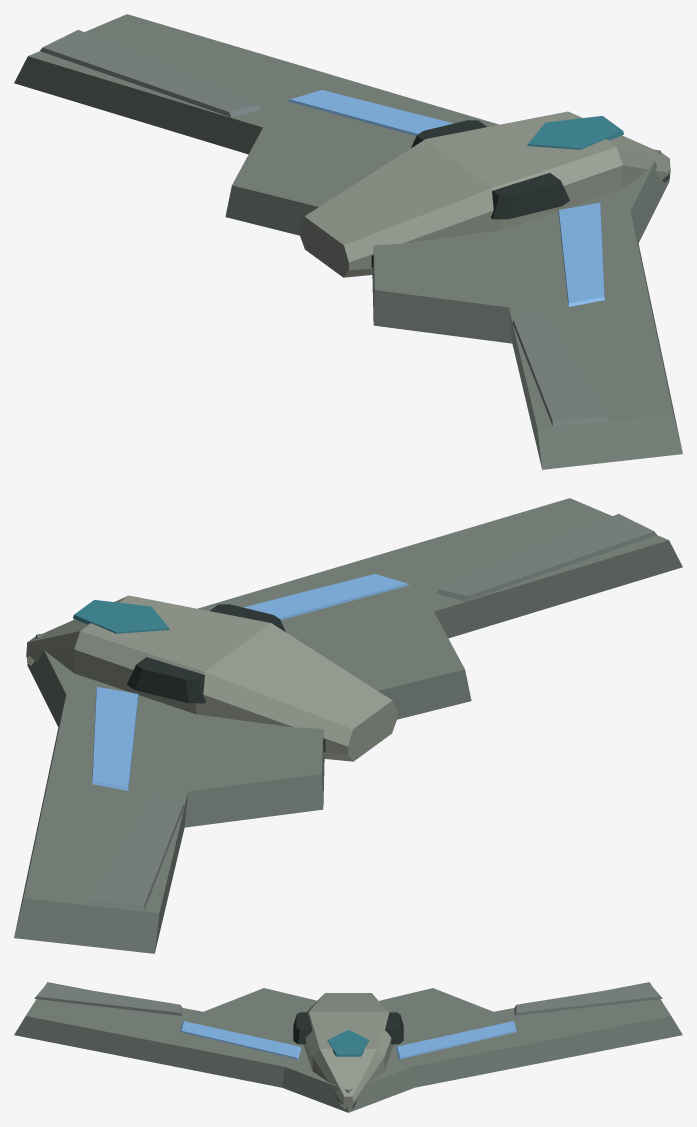
The model's file is spectre.glb.
The picture shows the model from 3 angles, top to bottom: view 1: azimuth 30°, elevation 25°; view 2: azimuth 150°, elevation 25°; view 3: azimuth 270°, elevation 25°; orthographic projection. The views are drawn at different scales.
Visible parts, largest first — view 1: coalition_spectre; view 2: coalition_spectre; view 3: coalition_spectre.
Part boxes in pixels (x1=…): coalition_spectre: x1=14, y1=14, x2=682, y2=469; coalition_spectre: x1=14, y1=498, x2=682, y2=953; coalition_spectre: x1=14, y1=982, x2=682, y2=1112.
Bounding box in the file's own units: 2.38 × 0.456 × 5.96.
